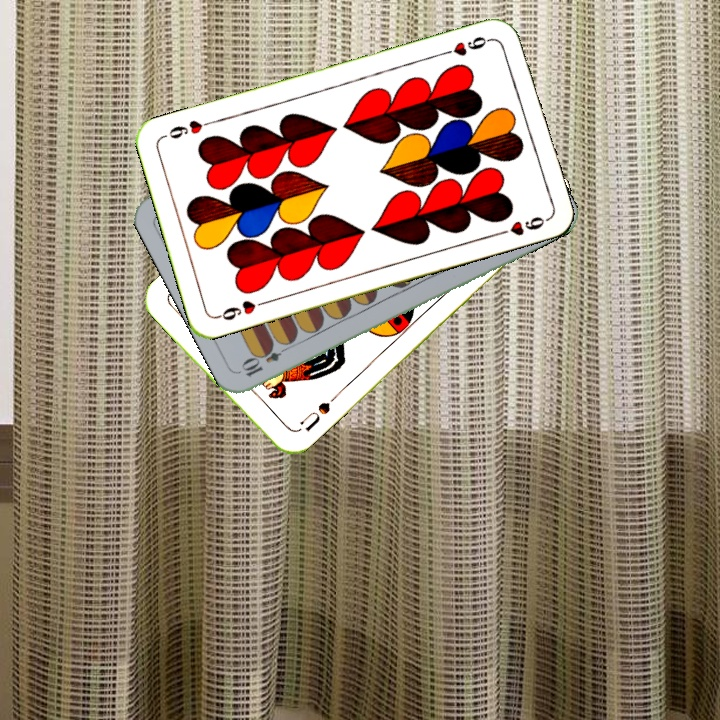E10: (238, 339, 293, 380)
H9: (437, 32, 495, 59), (213, 296, 270, 323)
SU: (295, 392, 339, 434)
